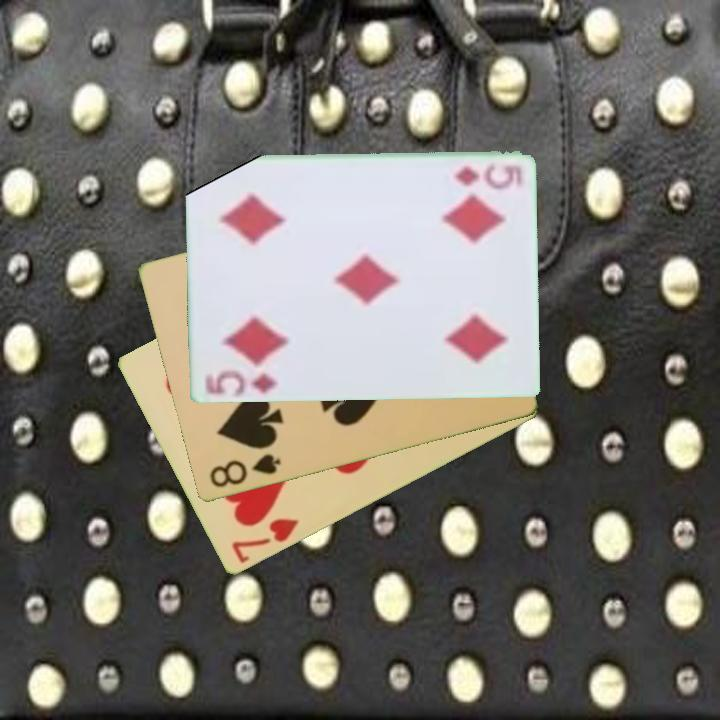5d: (200, 367, 280, 399), (450, 159, 512, 189)
7h: (227, 515, 302, 567)
8s: (206, 450, 284, 491)
